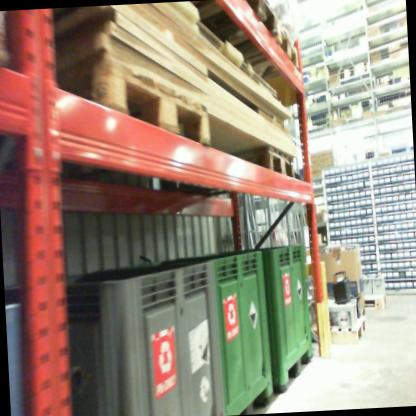pallet: (47, 37, 224, 169), (187, 17, 312, 85), (162, 0, 283, 44), (217, 136, 306, 195), (319, 313, 372, 348), (354, 288, 393, 313)
